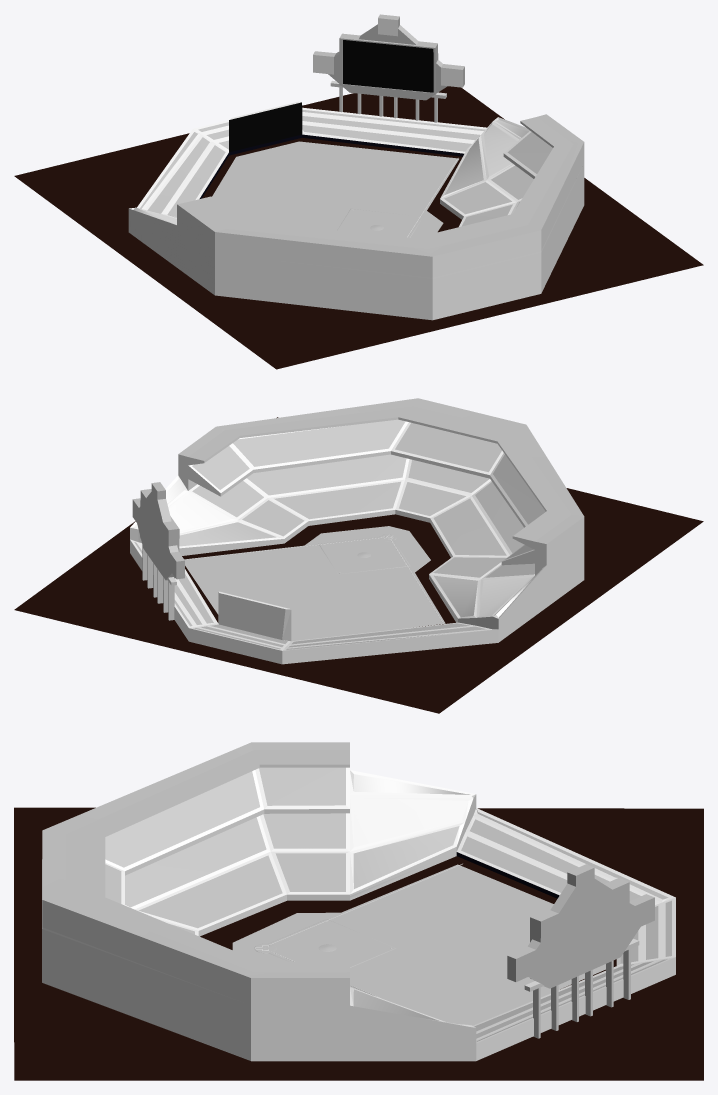
File: LONSPARK.fbx
3 renders of one model, top to bottom at view 1: azimuth 30°, elevation 25°; view 2: azimuth 150°, elevation 25°; view 3: azimuth 270°, elevation 25°, orthographic. The views are drawn at different scales.
Visible parts, largest first — view 1: stadium, Floor, screen, Box002, Box001; view 2: stadium, Floor, screen, Box002, Box001; view 3: stadium, Floor, screen, Box002, Box001.
Part boxes in pixels (left/top/right/bottom): stadium: left=128, top=101, right=584, bottom=320; Floor: left=14, top=86, right=703, bottom=369; screen: left=313, top=14, right=464, bottom=100; Box002: left=337, top=208, right=423, bottom=237; Box001: left=330, top=80, right=446, bottom=122; stadium: left=130, top=398, right=584, bottom=664; Floor: left=14, top=417, right=703, bottom=713; screen: left=132, top=482, right=184, bottom=580; Box002: left=318, top=536, right=409, bottom=574; Box001: left=140, top=536, right=176, bottom=620; stadium: left=42, top=742, right=675, bottom=1061; Floor: left=14, top=807, right=703, bottom=1080; screen: left=507, top=864, right=654, bottom=988; Box002: left=259, top=919, right=395, bottom=967; Box001: left=524, top=939, right=639, bottom=1038.
Size of the model in its own units: 6973 by 1841 by 7452.
